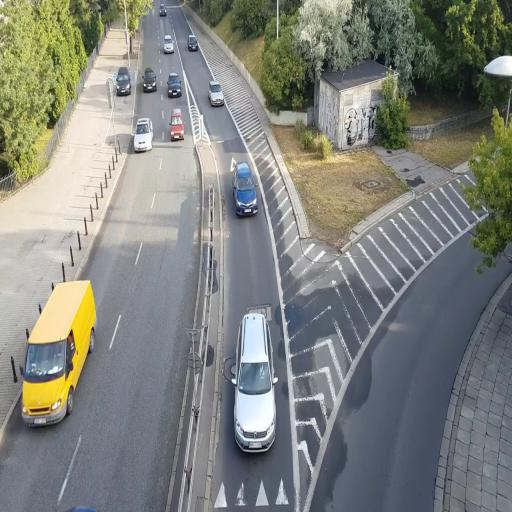vehicle: (13, 278, 97, 428), (233, 307, 277, 454), (233, 308, 277, 454), (233, 160, 259, 218), (133, 117, 153, 152), (170, 108, 185, 142), (114, 68, 132, 96), (208, 80, 224, 106), (167, 72, 182, 99), (142, 69, 157, 92), (162, 34, 175, 55), (187, 33, 199, 51)
